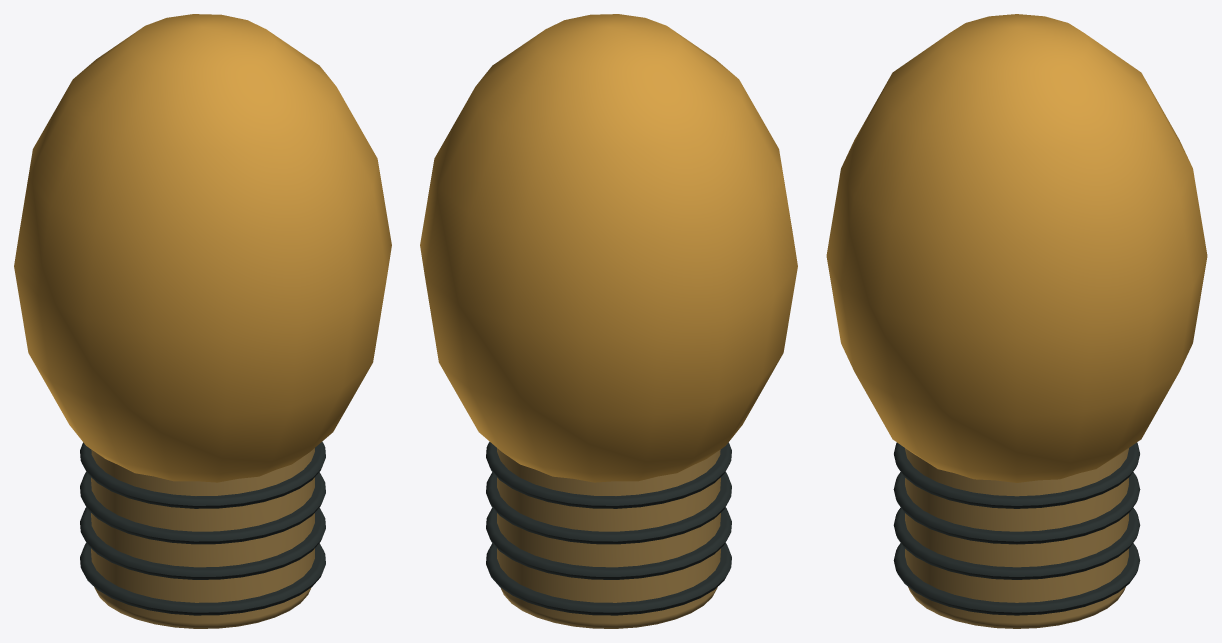
The model's file is Pickup_LightBulb.fbx.
The picture shows the model from 3 angles, left to right: view 1: azimuth 30°, elevation 25°; view 2: azimuth 150°, elevation 25°; view 3: azimuth 270°, elevation 25°; orthographic projection.
Visible parts, largest first — view 1: Bulb envelope.001, Bulb screw base.001, Bulb thread.007, Bulb thread.005, Bulb thread.006, Bulb thread.008; view 2: Bulb envelope.001, Bulb screw base.001, Bulb thread.007, Bulb thread.005, Bulb thread.006, Bulb thread.008; view 3: Bulb envelope.001, Bulb screw base.001, Bulb thread.006, Bulb thread.005, Bulb thread.007, Bulb thread.008.
Part boxes in pixels (x1,y1,x2,y2): Bulb envelope.001: (14,14,391,482); Bulb screw base.001: (91,448,314,628); Bulb thread.007: (80,472,325,544); Bulb thread.005: (80,543,325,615); Bulb thread.006: (80,507,325,579); Bulb thread.008: (80,441,325,508); Bulb envelope.001: (420,14,797,482); Bulb screw base.001: (497,448,720,628); Bulb thread.007: (486,472,731,544); Bulb thread.005: (486,543,731,615); Bulb thread.006: (486,507,731,579); Bulb thread.008: (486,441,731,508); Bulb envelope.001: (826,14,1207,482); Bulb screw base.001: (905,448,1128,628); Bulb thread.006: (893,507,1140,579); Bulb thread.005: (893,543,1140,615); Bulb thread.007: (893,472,1140,544); Bulb thread.008: (894,442,1139,508).
Size of the model in its own units: 0.068 by 0.11 by 0.068.
